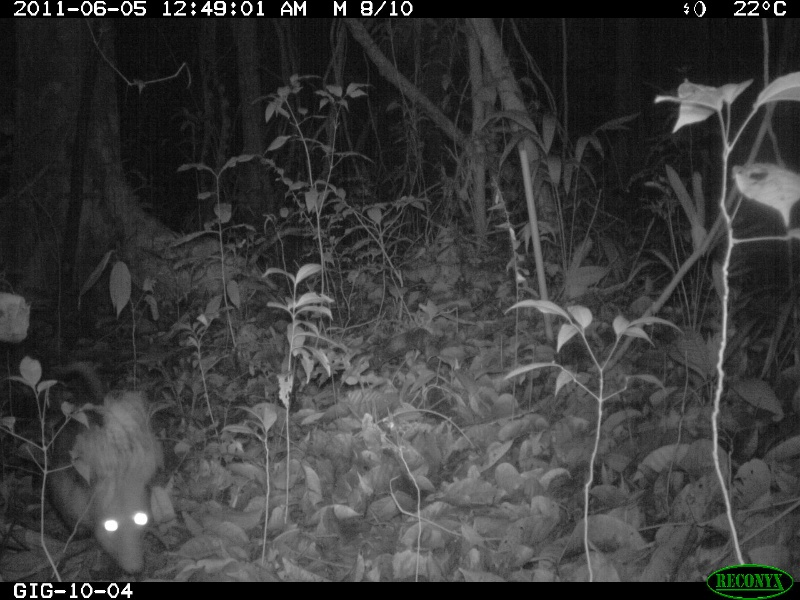opossum: (49, 367, 161, 570)
